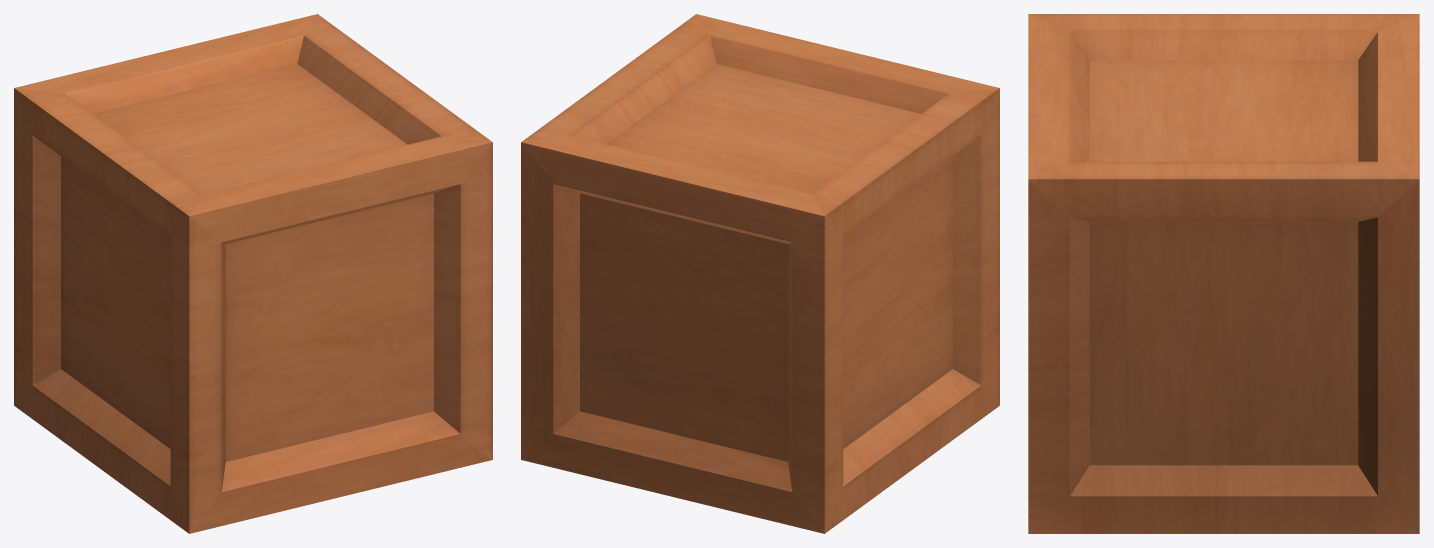
Rendered from woodBox01_02.fbx.
3 views of the same model, side by side, from view 1: azimuth 30°, elevation 25°; view 2: azimuth 150°, elevation 25°; view 3: azimuth 270°, elevation 25° (orthographic). The views are drawn at different scales.
Parts seen in each view (by area): view 1: polySurface184; view 2: polySurface184; view 3: polySurface184.
Boxes of the visible parts, x1,y1,x2,y2 form: polySurface184: (14,14,492,533); polySurface184: (521,14,999,533); polySurface184: (1028,14,1419,533).
Size of the model in its own units: 10.09 by 10.09 by 10.09.
1 material, 1 textured.
